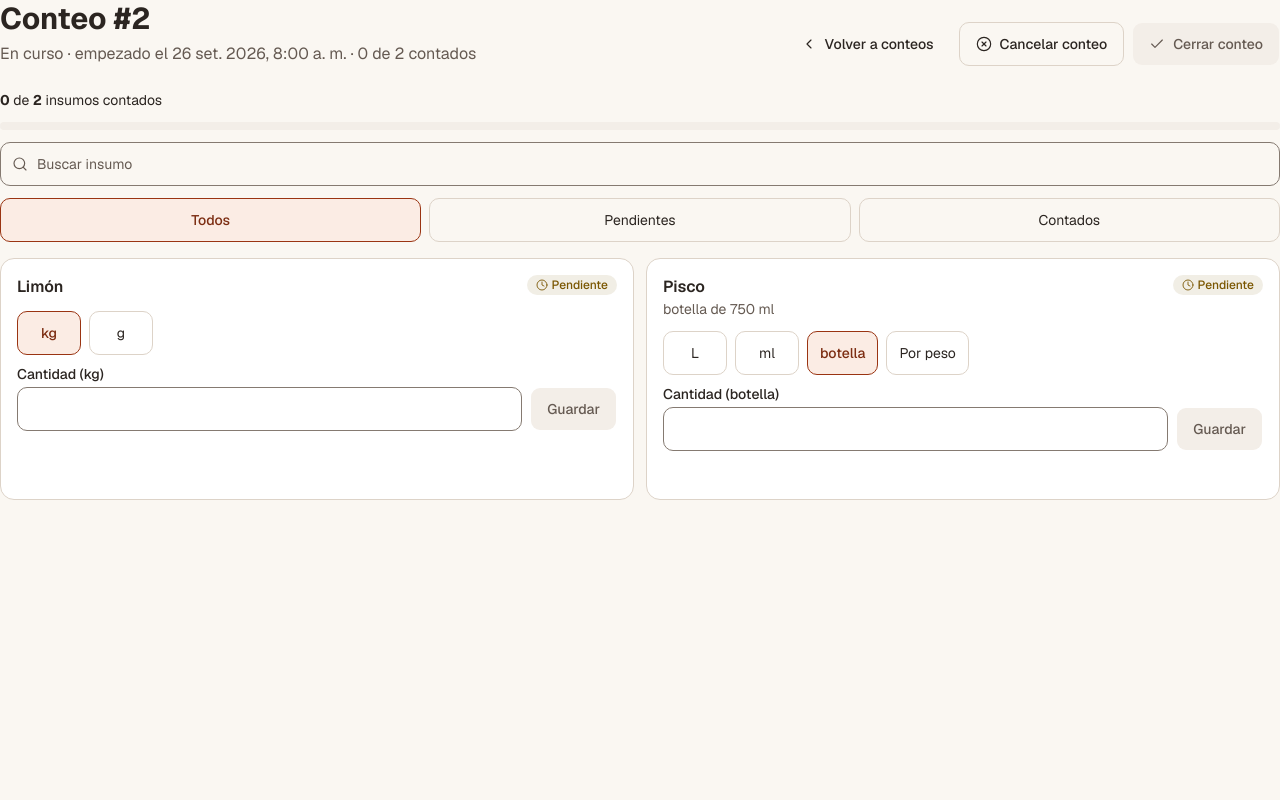
Scenario: contar › sin nada contado no deja cerrar; un conteo que ya no está en curso se explica por su código
Check: the button "Cerrar conteo" is disabled, box [1132, 22, 1279, 66]
What coordinates should you click on to do the following:
click the button "Cancelar conteo"
I would click on:
 (1041, 44)
Its box is [959, 22, 1124, 66].
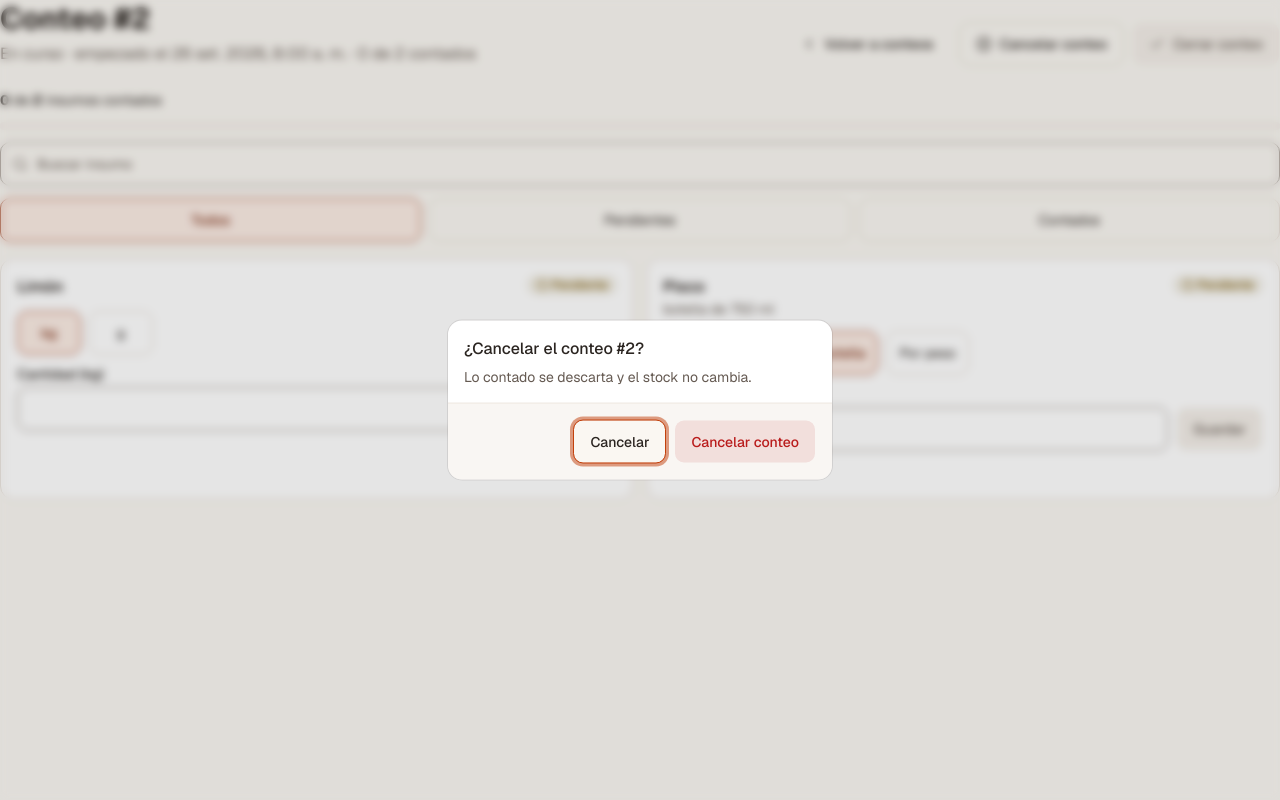
What coordinates should you click on to do the following:
click the button "Cancelar conteo"
I would click on:
 (745, 442)
Its box is [674, 420, 816, 464].
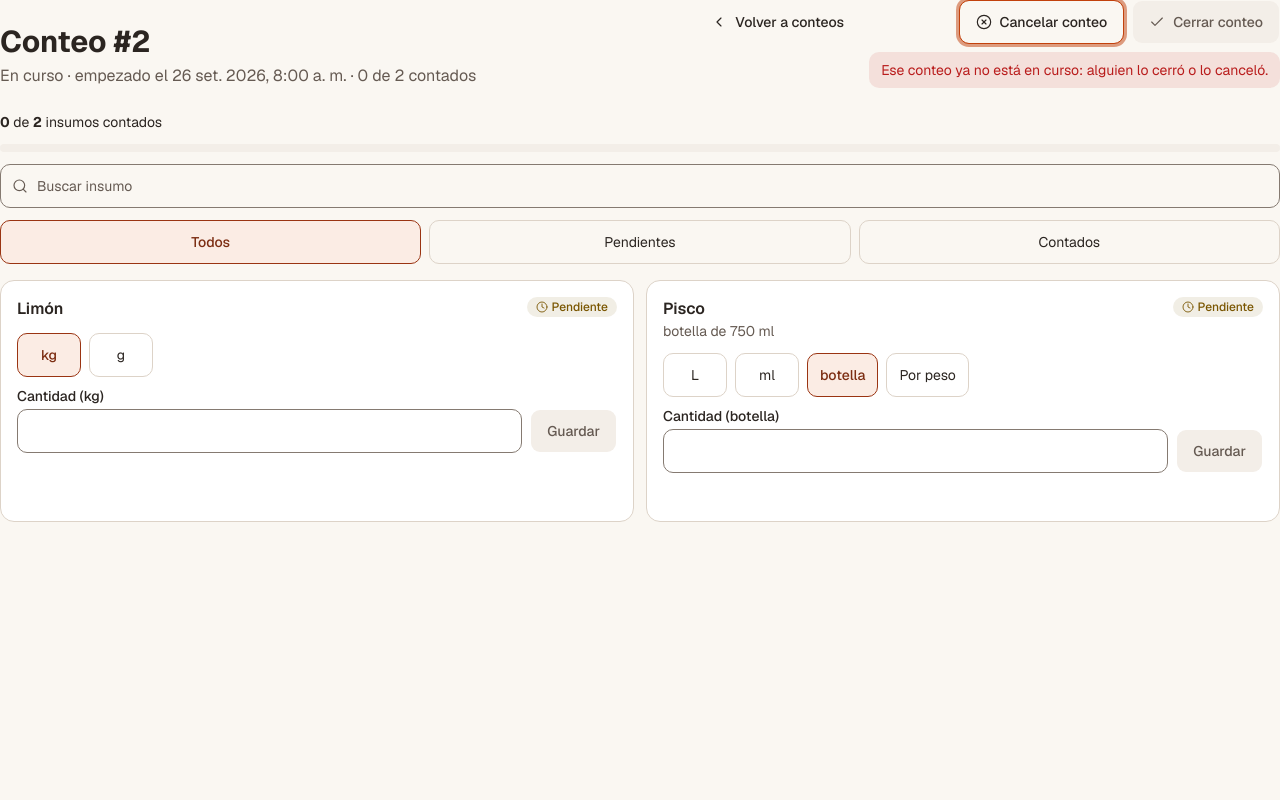
Check: the text "Ese conteo ya no está en curso: alguien lo cerró o lo canceló." is shown, box [869, 52, 1279, 88]
